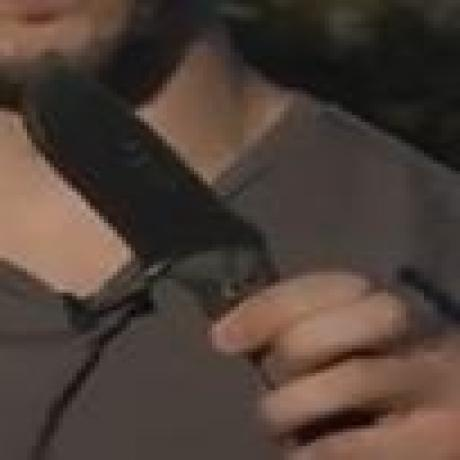1: (0, 0, 460, 460)
weapon: (23, 58, 280, 314)
